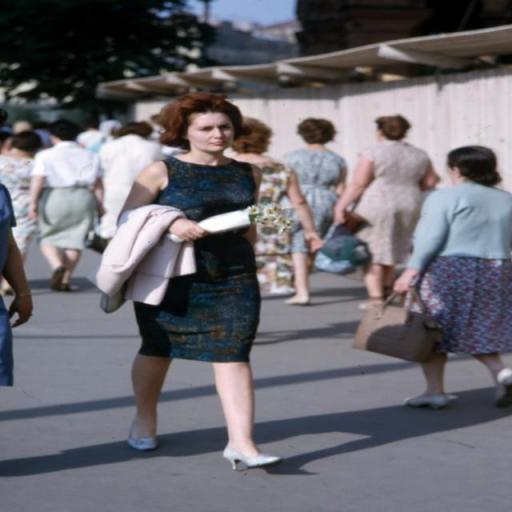person: (113, 94, 284, 471), (393, 148, 512, 413), (331, 111, 441, 309), (281, 118, 348, 306), (29, 128, 100, 291)
